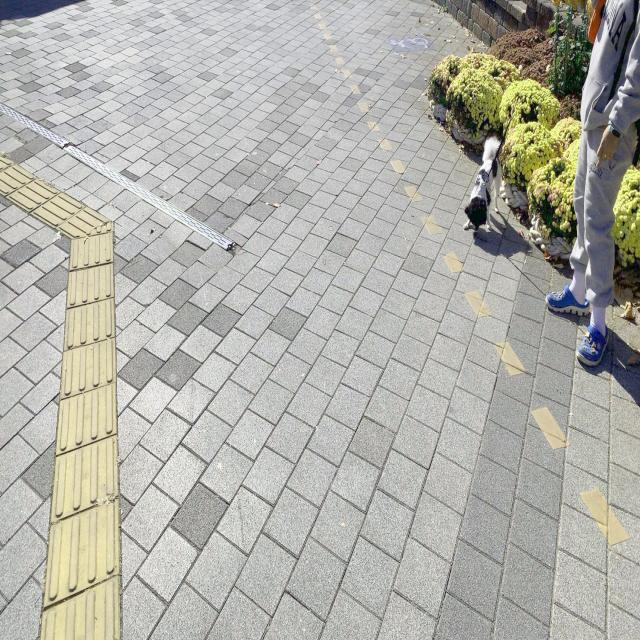Leashed_Dog: (463, 0, 615, 233)
